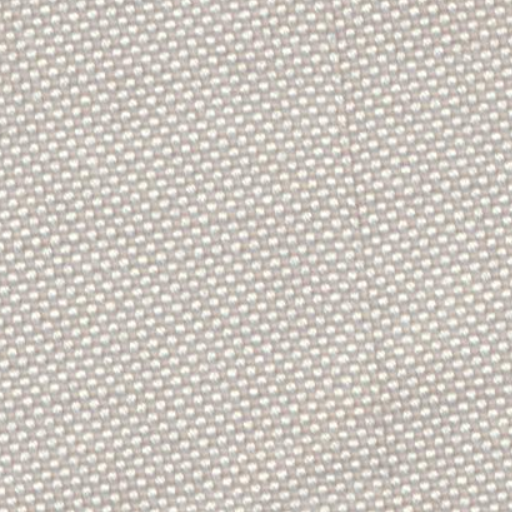TuoSha: (304, 20, 412, 500)
